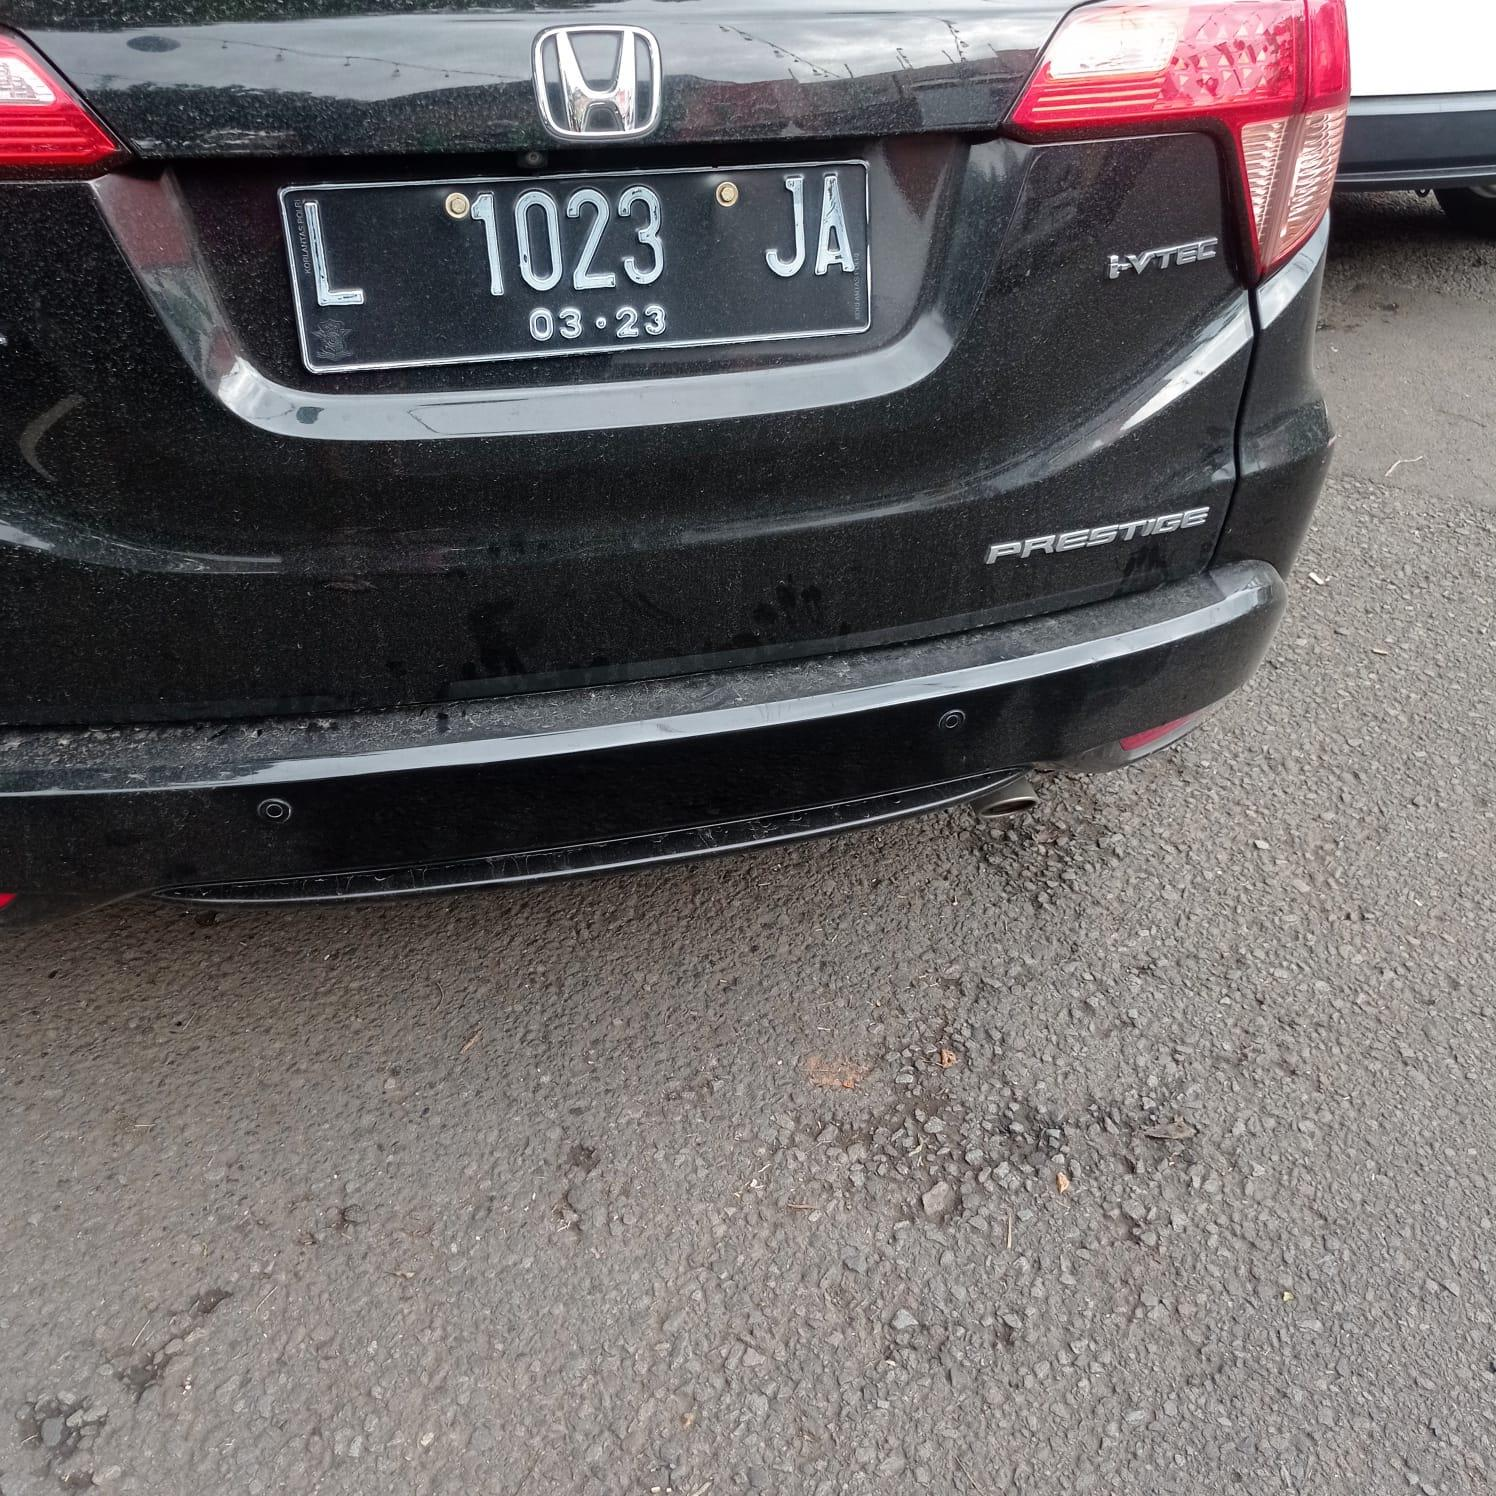plat: (281, 160, 871, 374)
